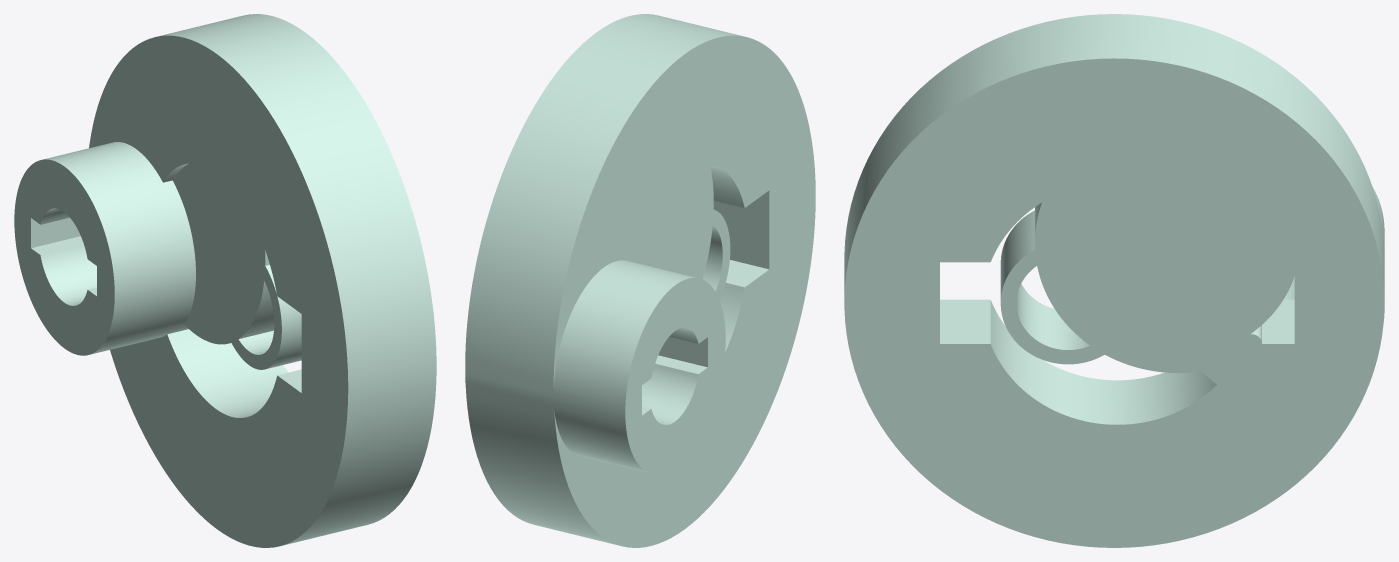
3 renders of one model, left to right at view 1: azimuth 30°, elevation 25°; view 2: azimuth 150°, elevation 25°; view 3: azimuth 270°, elevation 25°, orthographic. The views are drawn at different scales.
Parts seen in each view (by area): view 1: Renderer Node; view 2: Renderer Node; view 3: Renderer Node.
Part boxes in pixels (left/top/right/bottom): Renderer Node: left=14, top=14, right=436, bottom=547; Renderer Node: left=465, top=14, right=815, bottom=547; Renderer Node: left=844, top=14, right=1384, bottom=547.
Bounding box in the file's own units: 0.5234 × 1.48 × 1.48.
